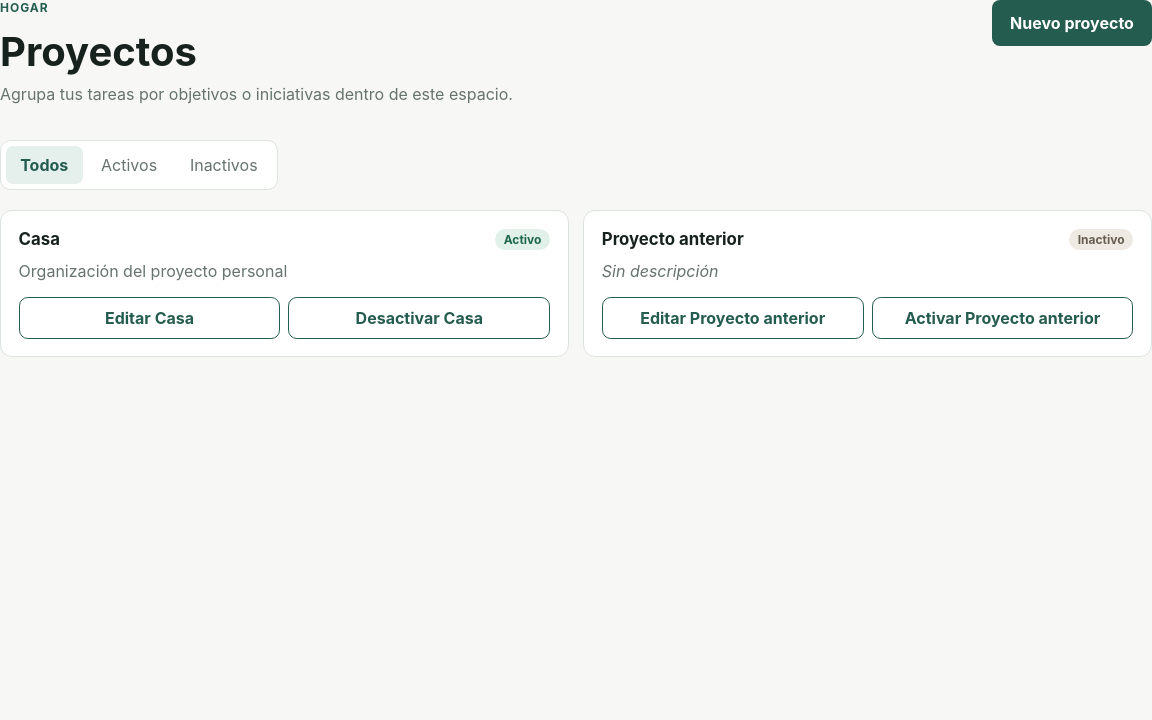
Test: ProjectsPage › translates duplicate-name conflicts while editing
Check: the heading "Casa" is shown, box [19,229,60,249]
Click the button "Editar Casa". click: point(150, 318)
box: [19,297,280,339]
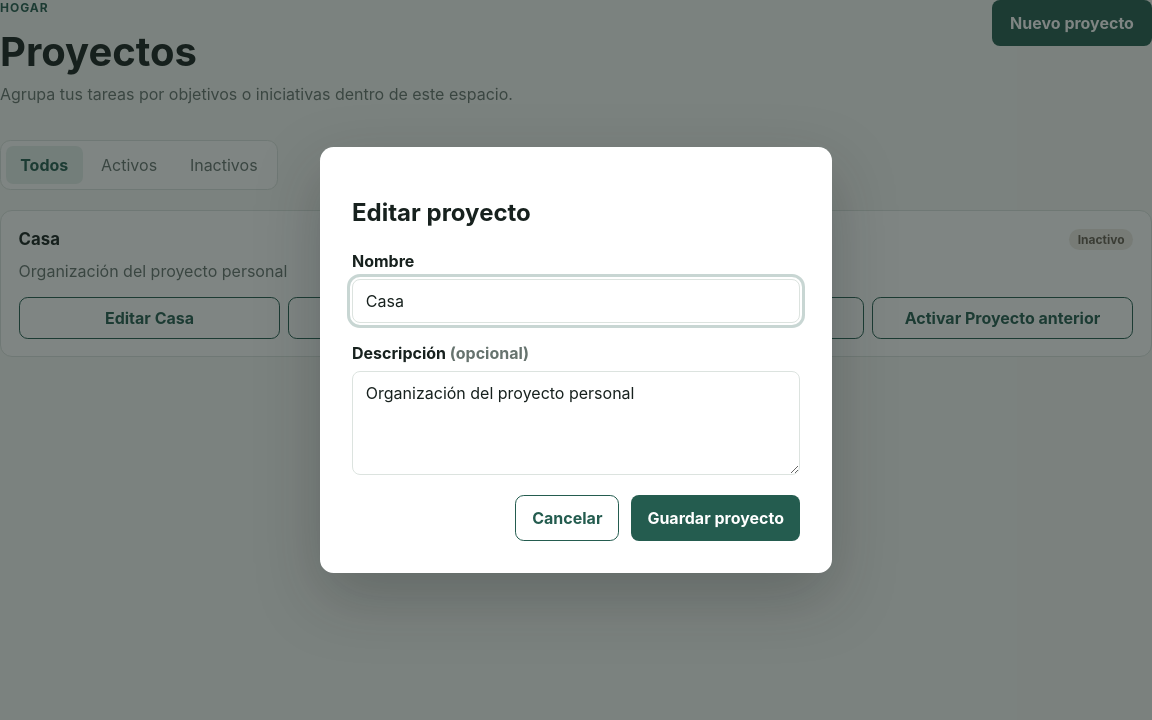
Click the button "Guardar proyecto". click: point(716, 518)
box: [631,495,800,541]
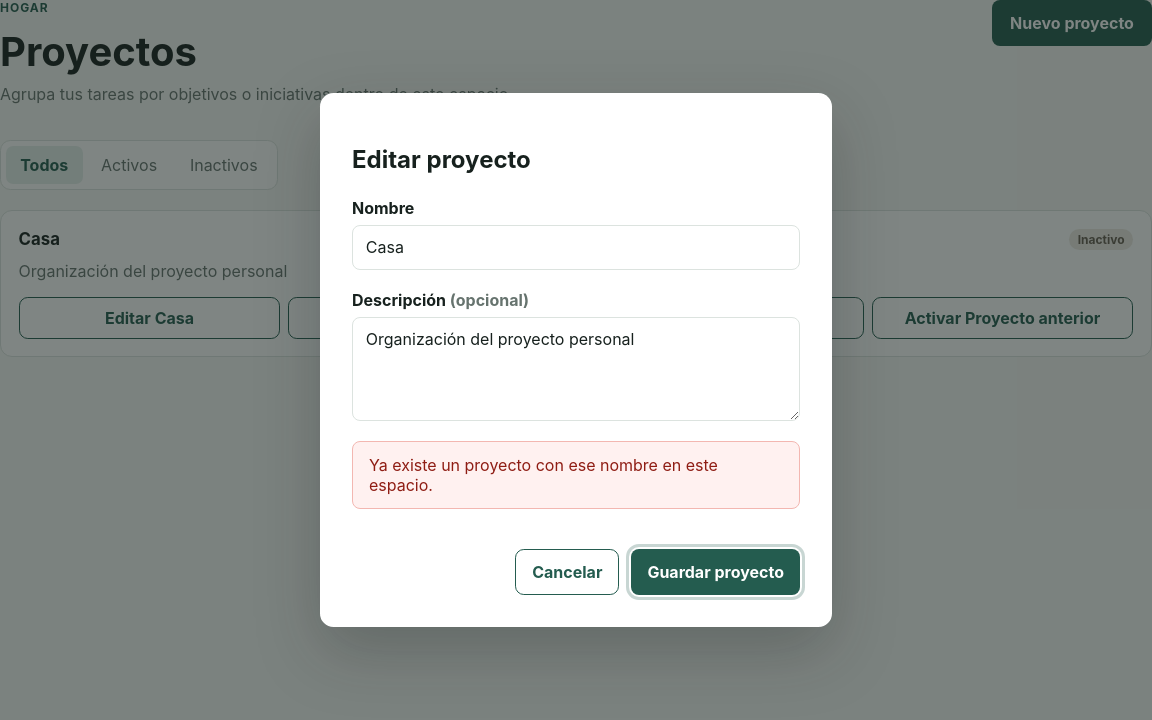
Check: the message reads "Ya existe un proyecto con ese nombre en este espacio.", box [369,455,718,495]
